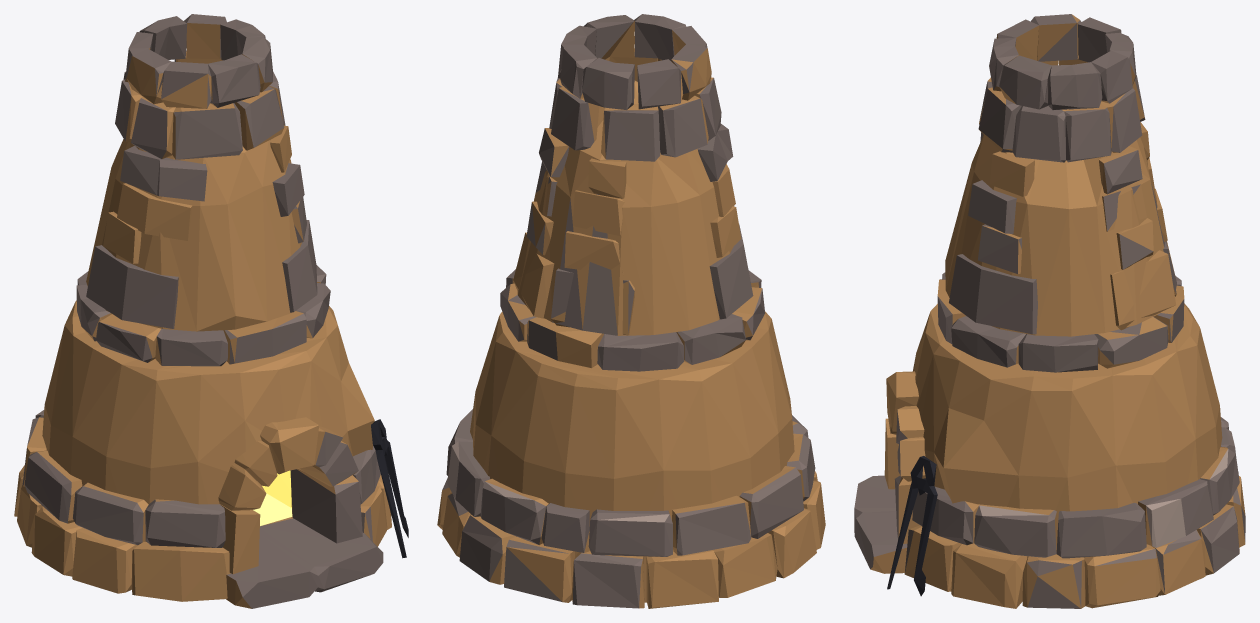
File: Smelter.glb
3 views of the same model, side by side, from view 1: azimuth 30°, elevation 25°; view 2: azimuth 150°, elevation 25°; view 3: azimuth 270°, elevation 25° (orthographic). The views are drawn at different scales.
Visible parts, largest first — view 1: Smelter; view 2: Smelter; view 3: Smelter.
Part boxes in pixels (box(x1,y1,x2,y2)): Smelter: box(14, 14, 408, 608); Smelter: box(437, 14, 825, 608); Smelter: box(854, 14, 1245, 608).
Size of the model in its own units: 1.41 by 2 by 1.46.
